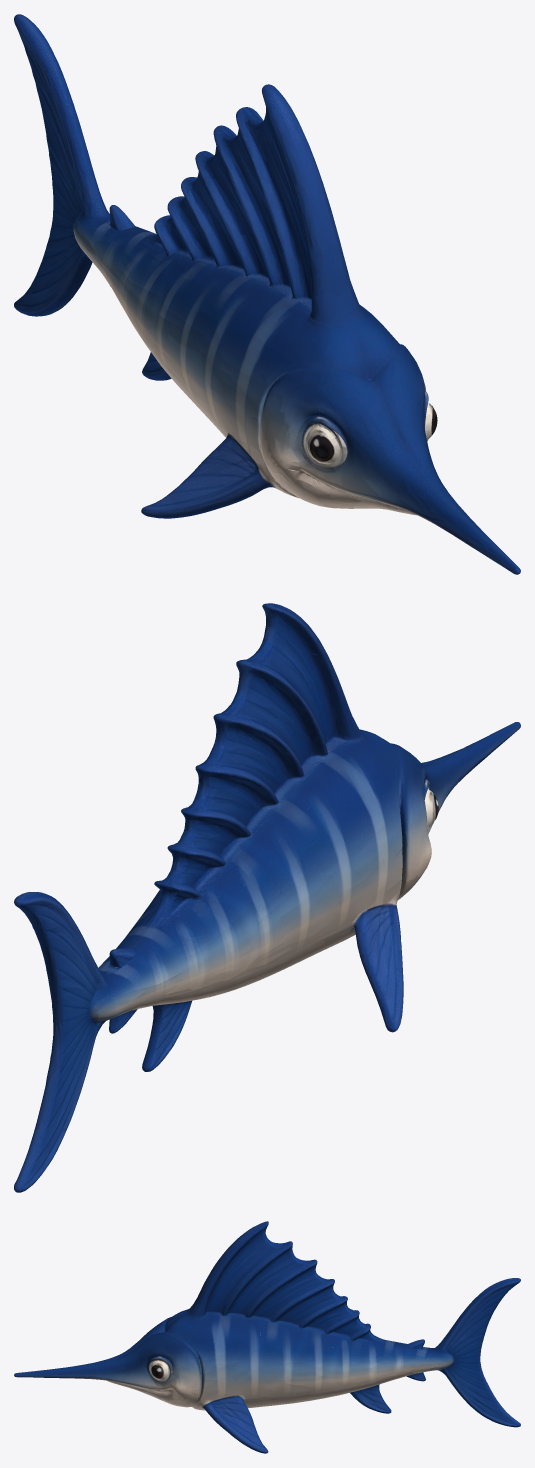
Rendered from marlin_src.glb.
3 views of the same model, one above another, from view 1: azimuth 30°, elevation 25°; view 2: azimuth 150°, elevation 25°; view 3: azimuth 270°, elevation 25° (orthographic). The views are drawn at different scales.
Parts seen in each view (by area): view 1: Mesh_0; view 2: Mesh_0; view 3: Mesh_0.
Part boxes in pixels (x1,y1,x2,y2): Mesh_0: [14, 14, 520, 574]; Mesh_0: [14, 603, 520, 1192]; Mesh_0: [14, 1221, 520, 1453].
Size of the model in its own units: 0.5565 by 0.8471 by 1.9.
Materials: 1 (1 with a texture image).
